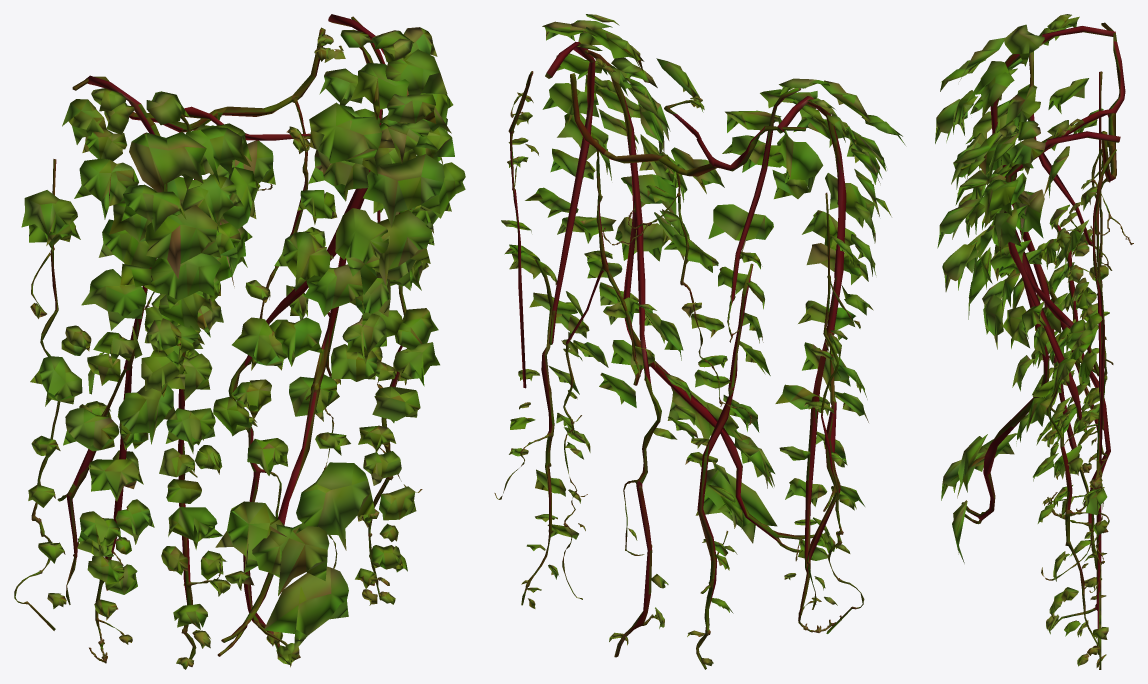
File: vines-hanging.lod1.glb
3 views of the same model, side by side, from view 1: azimuth 30°, elevation 25°; view 2: azimuth 150°, elevation 25°; view 3: azimuth 270°, elevation 25° (orthographic). The views are drawn at different scales.
Visible parts, largest first — view 1: Object_4; view 2: Object_4; view 3: Object_4.
Part boxes in pixels (box(x1,y1,x2,y2)): Object_4: box(14, 14, 465, 669); Object_4: box(494, 14, 905, 669); Object_4: box(935, 14, 1133, 669).
Bounding box in the file's own units: 2.67 × 4 × 1.29.
1 material, 1 textured.
